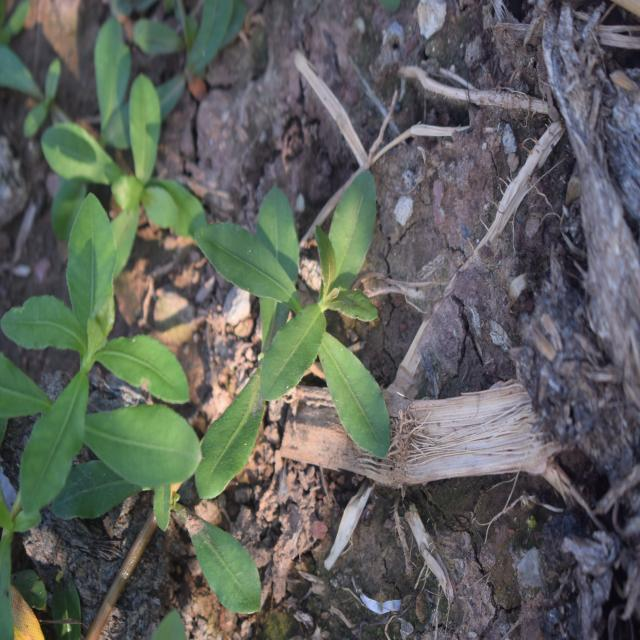Alligatorweed: (185, 155, 413, 539), (0, 192, 184, 588)
